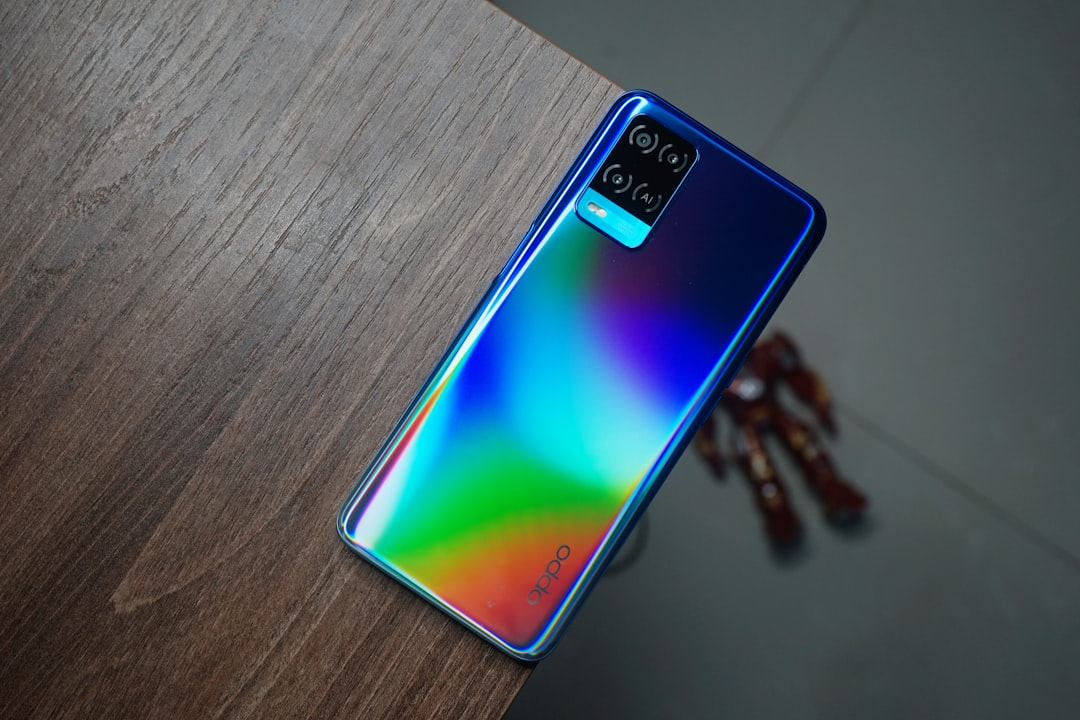phone: (335, 87, 830, 664)
